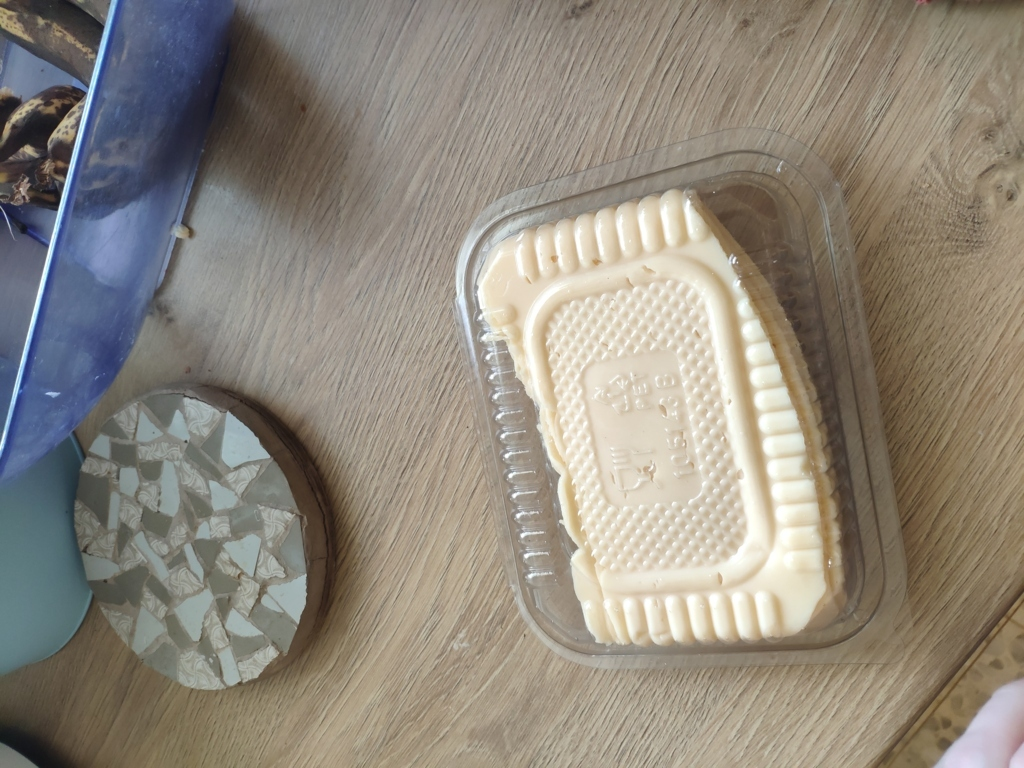Cheese: (422, 194, 1021, 738)
